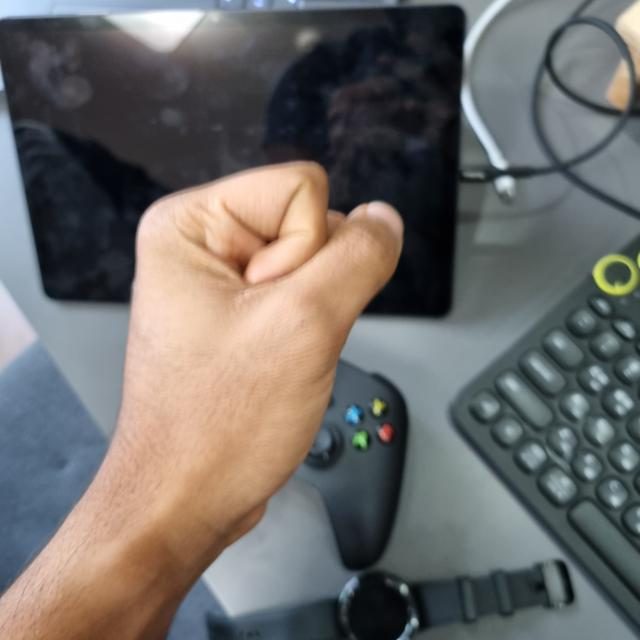Rock: (112, 164, 404, 525)
